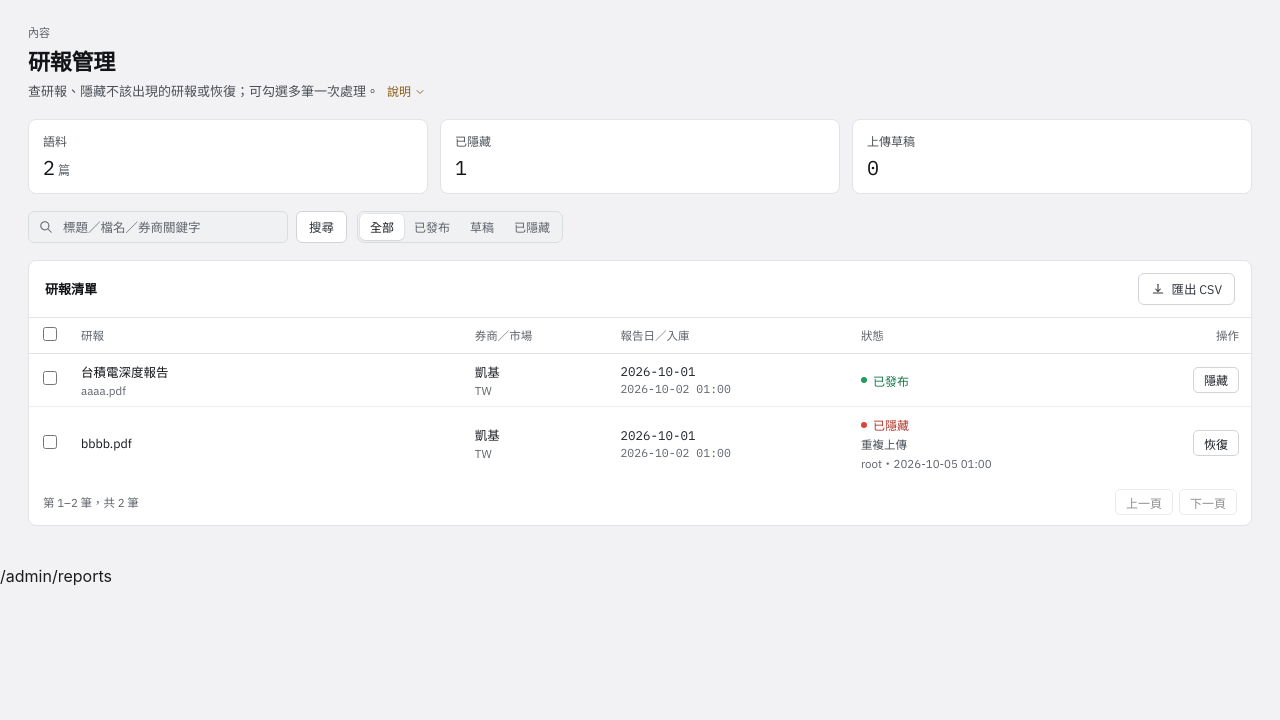
Test case: 列的鍵盤入口是標題按鈕；已隱藏的抽屜顯示原因，不連閱讀頁，動作是恢復
Step 1. Click the button "bbbb.pdf" → (106,443), box [81,435,132,451]
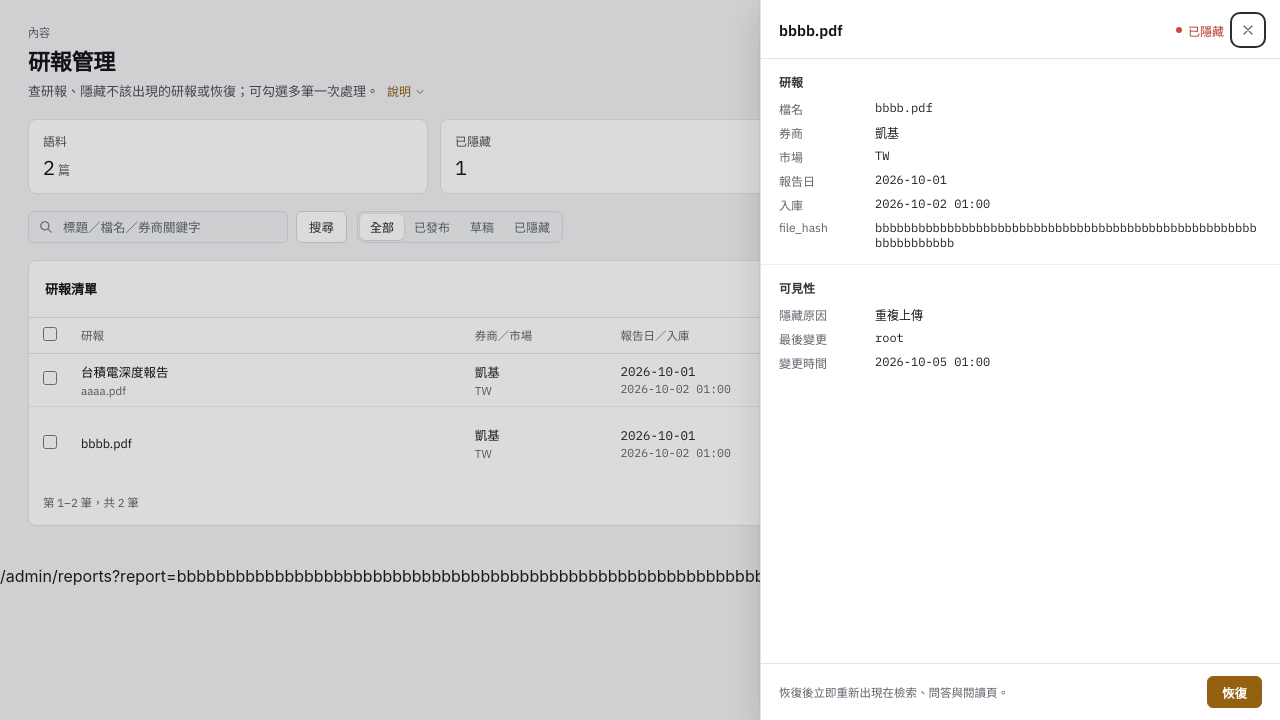
Check: the text "已隱藏" is shown, box [1176,22,1224,38]
Check: the text "重複上傳" is shown, box [875,308,923,323]
Check: the button "恢復" is shown, box [1207,676,1262,708]
